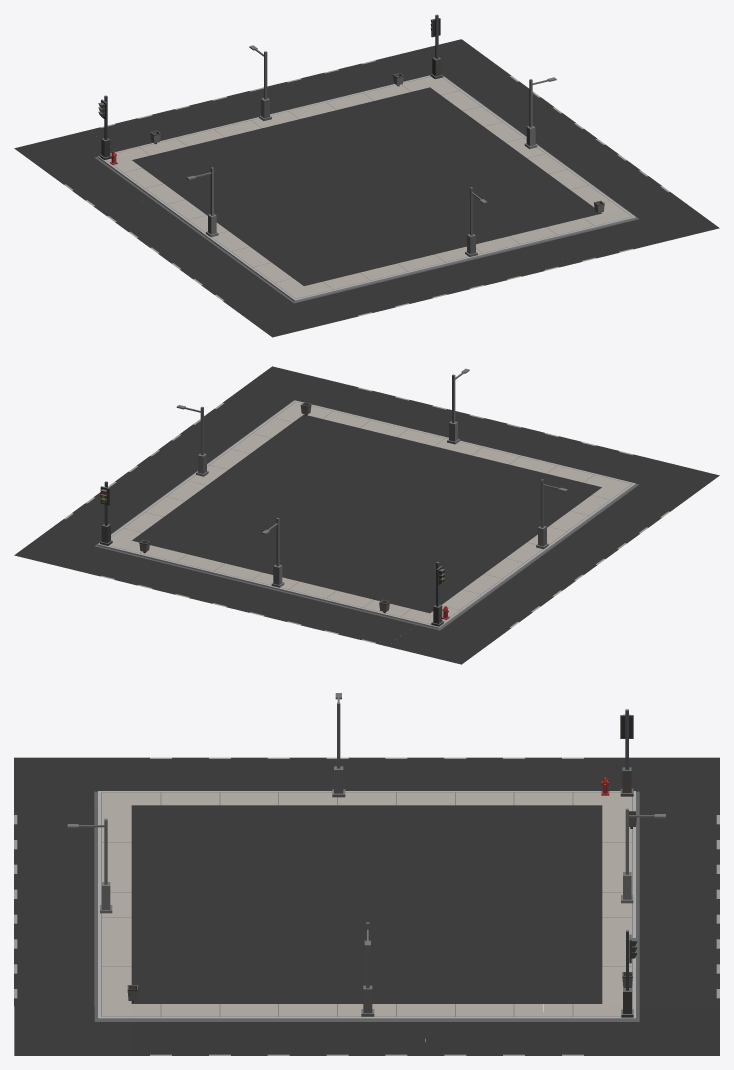
File: block2.obj
The picture shows the model from 3 angles, top to bottom: view 1: azimuth 30°, elevation 25°; view 2: azimuth 150°, elevation 25°; view 3: azimuth 270°, elevation 25°; orthographic projection. The views are drawn at different scales.
Parts seen in each view (by area): view 1: SM_Env_Road_Square9_SM_Env_Road_Square, SM_Env_Road_Corner3_SM_Env_Road_Corner, SM_Env_Road_Corner14_SM_Env_Road_Corner, SM_Env_Road_Corner12_SM_Env_Road_Corner, SM_Env_Road_Corner13_SM_Env_Road_Corner, SM_Env_Road_Straight182_SM_Env_Road_Straight, SM_Env_Road_Straight194_SM_Env_Road_Straight, SM_Env_Road_Straight193_SM_Env_Road_Straight, SM_Env_Road_Straight196_SM_Env_Road_Straight, SM_Env_Road_Straight189_SM_Env_Road_Straight, SM_Env_Road_Straight190_SM_Env_Road_Straight, SM_Env_Road_Straight186_SM_Env_Road_Straight (+25 smaller); view 2: SM_Env_Road_Square9_SM_Env_Road_Square, SM_Env_Road_Corner3_SM_Env_Road_Corner, SM_Env_Road_Corner12_SM_Env_Road_Corner, SM_Env_Road_Corner13_SM_Env_Road_Corner, SM_Env_Road_Corner14_SM_Env_Road_Corner, SM_Env_Road_Straight212_SM_Env_Road_Straight, SM_Env_Road_Straight208_SM_Env_Road_Straight, SM_Env_Road_Straight209_SM_Env_Road_Straight, SM_Env_Road_Straight148_SM_Env_Road_Straight, SM_Env_Road_Straight200_SM_Env_Road_Straight, SM_Env_Road_Straight140_SM_Env_Road_Straight, SM_Env_Road_Straight147_SM_Env_Road_Straight (+26 smaller); view 3: SM_Env_Road_Square9_SM_Env_Road_Square, SM_Env_Road_Corner14_SM_Env_Road_Corner, SM_Env_Road_Corner3_SM_Env_Road_Corner, SM_Env_Road_Corner13_SM_Env_Road_Corner, SM_Env_Road_Corner12_SM_Env_Road_Corner, SM_Env_Road_Straight177_SM_Env_Road_Straight, SM_Env_Road_Straight167_SM_Env_Road_Straight, SM_Env_Road_Straight169_SM_Env_Road_Straight, SM_Env_Road_Straight178_SM_Env_Road_Straight, SM_Env_Road_Straight174_SM_Env_Road_Straight, SM_Env_Road_Straight197_SM_Env_Road_Straight, SM_Env_Road_Straight182_SM_Env_Road_Straight (+31 smaller).
Boxes of the visible parts, x1,y1,x2,y2 form: SM_Env_Road_Square9_SM_Env_Road_Square: (132, 87, 601, 285); SM_Env_Road_Corner3_SM_Env_Road_Corner: (230, 286, 346, 337); SM_Env_Road_Corner14_SM_Env_Road_Corner: (602, 196, 719, 246); SM_Env_Road_Corner12_SM_Env_Road_Corner: (14, 130, 131, 179); SM_Env_Road_Corner13_SM_Env_Road_Corner: (387, 39, 503, 87); SM_Env_Road_Straight182_SM_Env_Road_Straight: (528, 222, 607, 264); SM_Env_Road_Straight194_SM_Env_Road_Straight: (341, 268, 420, 309); SM_Env_Road_Straight193_SM_Env_Road_Straight: (304, 277, 383, 319); SM_Env_Road_Straight196_SM_Env_Road_Straight: (565, 213, 644, 255); SM_Env_Road_Straight189_SM_Env_Road_Straight: (379, 259, 458, 300); SM_Env_Road_Straight190_SM_Env_Road_Straight: (416, 250, 495, 291); SM_Env_Road_Straight186_SM_Env_Road_Straight: (491, 231, 570, 273); SM_Env_Road_Square9_SM_Env_Road_Square: (132, 414, 601, 613); SM_Env_Road_Corner3_SM_Env_Road_Corner: (603, 457, 719, 506); SM_Env_Road_Corner12_SM_Env_Road_Corner: (387, 613, 504, 664); SM_Env_Road_Corner13_SM_Env_Road_Corner: (14, 524, 131, 573); SM_Env_Road_Corner14_SM_Env_Road_Corner: (229, 366, 346, 414); SM_Env_Road_Straight212_SM_Env_Road_Straight: (275, 586, 354, 628); SM_Env_Road_Straight208_SM_Env_Road_Straight: (126, 549, 205, 591); SM_Env_Road_Straight209_SM_Env_Road_Straight: (163, 559, 242, 600); SM_Env_Road_Straight148_SM_Env_Road_Straight: (495, 550, 590, 585); SM_Env_Road_Straight200_SM_Env_Road_Straight: (581, 487, 676, 522); SM_Env_Road_Straight140_SM_Env_Road_Straight: (559, 503, 654, 538); SM_Env_Road_Straight147_SM_Env_Road_Straight: (473, 566, 568, 601); SM_Env_Road_Square9_SM_Env_Road_Square: (131, 805, 602, 1003); SM_Env_Road_Corner14_SM_Env_Road_Corner: (14, 1004, 131, 1055); SM_Env_Road_Corner3_SM_Env_Road_Corner: (14, 757, 131, 807); SM_Env_Road_Corner13_SM_Env_Road_Corner: (602, 1004, 719, 1055); SM_Env_Road_Corner12_SM_Env_Road_Corner: (602, 757, 719, 807); SM_Env_Road_Straight177_SM_Env_Road_Straight: (484, 1004, 543, 1055); SM_Env_Road_Straight167_SM_Env_Road_Straight: (190, 1004, 249, 1055); SM_Env_Road_Straight169_SM_Env_Road_Straight: (249, 1004, 308, 1055); SM_Env_Road_Straight178_SM_Env_Road_Straight: (543, 1004, 602, 1055); SM_Env_Road_Straight174_SM_Env_Road_Straight: (425, 1004, 484, 1055); SM_Env_Road_Straight197_SM_Env_Road_Straight: (131, 1004, 190, 1055); SM_Env_Road_Straight182_SM_Env_Road_Straight: (14, 954, 131, 981).
Bounding box in the file's own units: 60 × 8.75 × 60.
Materials: 1 (1 with a texture image).
